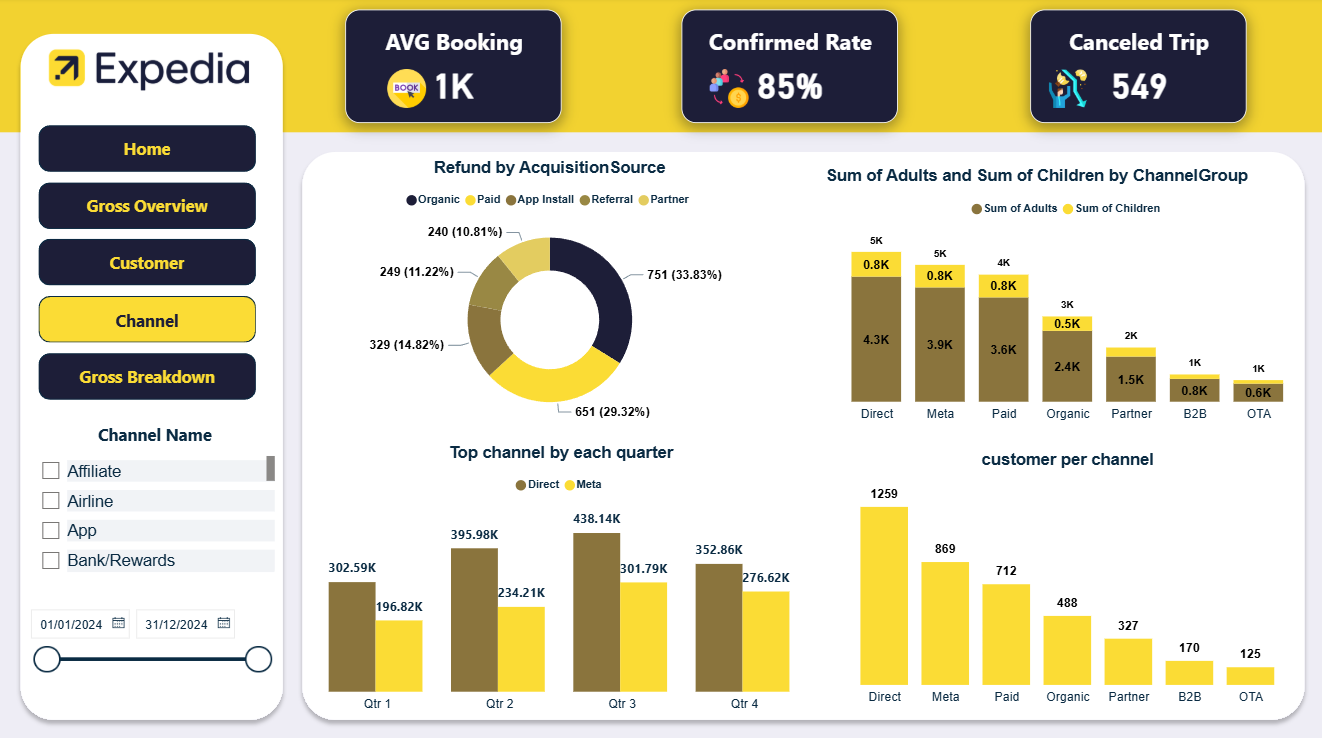

The page's visual inventory and layout, read from the dashboard file:
{"tool":"powerbi","page":{"name":"Channel","canvas":[1280,720],"ordinal":3},"visuals":[{"type":"clusteredColumnChart","title":"Top channel by each quarter","fields":{"Category":["Fact_Bookings.BookingDate.Variation.Date Hierarchy.Quarter"],"Y":["Sum(Fact_Bookings.GrossBookingValueUSD)"],"Series":["Dim_Channel.ChannelGroup"]},"box":[255.8,415,573.1,293.2],"z":0},{"type":"columnChart","fields":{"Category":["Dim_Channel.ChannelGroup"],"Y":["Sum(FactSearches.Adults)","Sum(FactSearches.Children)"]},"box":[783,148.4,497.1,279.9],"z":1000},{"type":"columnChart","title":"customer per channel","fields":{"Category":["Dim_Channel.ChannelGroup"],"Y":["CountNonNull(Fact_Bookings.CustomerKey)"]},"box":[792.6,422.3,477.8,279.9],"z":2000},{"type":"donutChart","title":"Refund  by AcquisitionSource","fields":{"Category":["Dim_Customer.AcquisitionSource"],"Y":["Fact_Bookings.Refund y count"]},"box":[279.9,139.9,503.1,288.3],"z":3000},{"type":"slicer","fields":{"Values":["Fact_Bookings.BookingDate"]},"box":[22.9,586.3,243.7,92.9],"z":4000},{"type":"slicer","title":"Channel Name","fields":{"Values":["Dim_Channel.ChannelName"]},"box":[32.6,410.2,234,150.8],"z":5000},{"type":"advanceCardE03760C5AB684758B56AA29F9E6C257B","title":"AVG Booking","fields":{"mainMeasure":["Fact_Bookings.AVG Booking"]},"box":[334.2,12.1,208.7,109.8],"z":6000},{"type":"advanceCardE03760C5AB684758B56AA29F9E6C257B","title":"Confirmed Rate","fields":{"mainMeasure":["Fact_Bookings.Confimed Rate"]},"box":[658.7,12.1,208.7,109.8],"z":7000},{"type":"advanceCardE03760C5AB684758B56AA29F9E6C257B","title":"Canceled Trip","fields":{"mainMeasure":["Fact_Bookings.Canceled trip"]},"box":[995.3,12.1,208.7,109.8],"z":8000},{"type":"image","box":[32.6,27.7,224.4,80.8],"z":9000},{"type":"pageNavigator","box":[22.9,108.6,240.1,295.6],"z":10000},{"type":"image","box":[658.7,54.3,91.7,67.6],"z":11000},{"type":"image","box":[985.7,54.3,91.7,67.6],"z":12000},{"type":"image","box":[347.5,54.3,91.7,67.6],"z":13000}]}

Visuals, with their boxes in screenshot pixels (x1, y1, x2, y2), scaled from the page's 1280x720 canvas onto the 1322x738 screenshot:
"Top channel by each quarter" clusteredColumnChart: 264,425,856,726
columnChart - Dim_Channel.ChannelGroup x Sum(FactSearches.Adults): 809,152,1321,439
"customer per channel" columnChart: 819,433,1312,720
"Refund  by AcquisitionSource" donutChart: 289,143,809,439
slicer - Fact_Bookings.BookingDate: 24,601,275,696
"Channel Name" slicer: 34,420,275,575
"AVG Booking" advanceCardE03760C5AB684758B56AA29F9E6C257B: 345,12,561,125
"Confirmed Rate" advanceCardE03760C5AB684758B56AA29F9E6C257B: 680,12,896,125
"Canceled Trip" advanceCardE03760C5AB684758B56AA29F9E6C257B: 1028,12,1244,125
image: 34,28,265,111
pageNavigator: 24,111,272,414
image: 680,56,775,125
image: 1018,56,1113,125
image: 359,56,454,125
